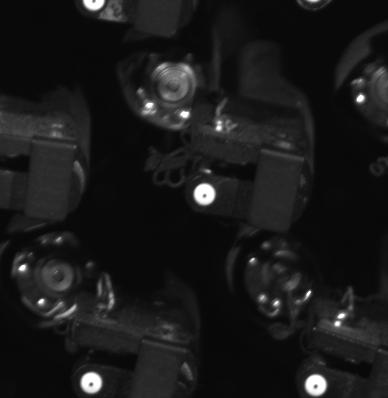fiber: (77, 364, 108, 398), (299, 370, 335, 398), (192, 181, 221, 209), (80, 1, 113, 15)
